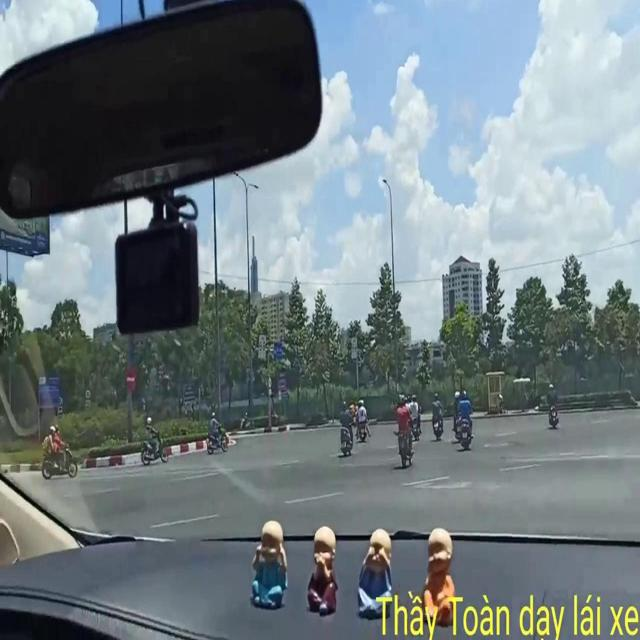Cấm các phương tiện hoạt động trong khung giờ cố định: (256, 331, 267, 361)
Cấm xe máy: (264, 375, 272, 385)
Cấm đi ngược chiều: (123, 365, 137, 393)
Khác: (35, 371, 58, 409), (181, 381, 194, 404)
Làn đường cho từng xe: (268, 335, 285, 362)
